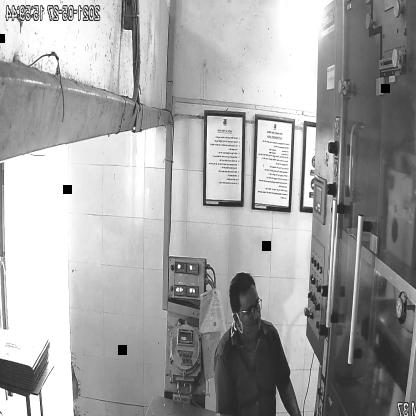goggles: (233, 296, 265, 320)
